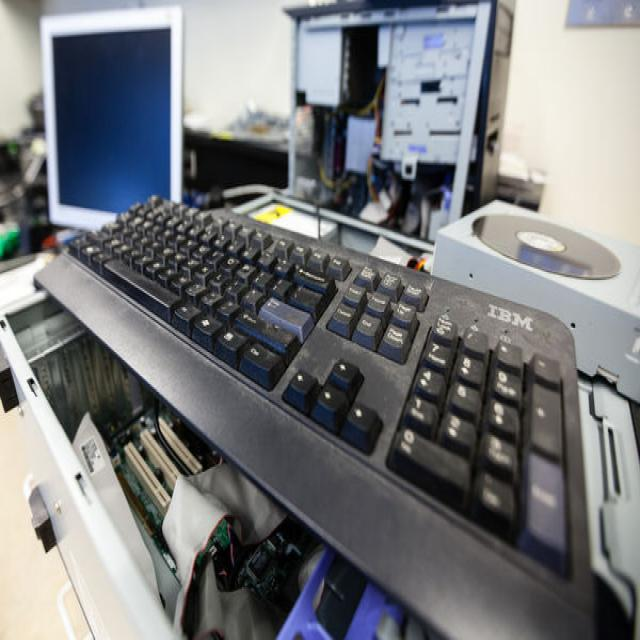plastic: (71, 196, 586, 640)
